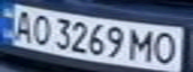2: (66, 18, 90, 55)
3: (51, 16, 72, 51)
6: (84, 21, 109, 57)
9: (103, 24, 127, 60)
A: (6, 7, 39, 43)
M: (127, 26, 160, 63)
O: (151, 29, 181, 65), (27, 11, 54, 46)
